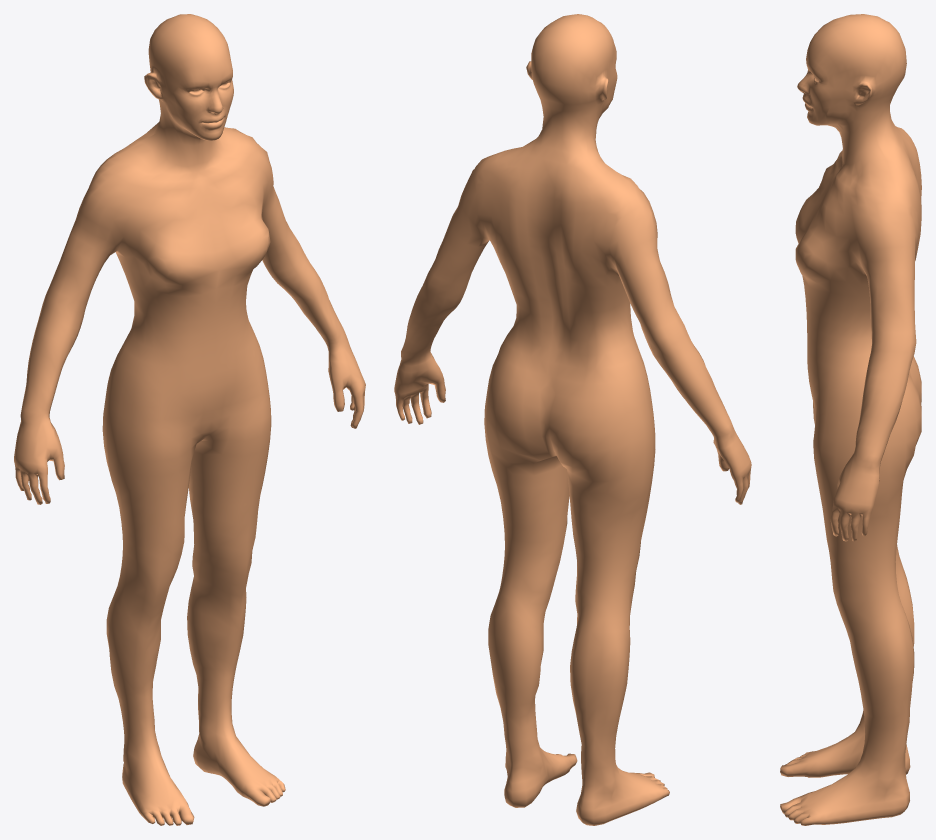
Rendered from waistmin.obj.
3 renders of one model, left to right at view 1: azimuth 30°, elevation 25°; view 2: azimuth 150°, elevation 25°; view 3: azimuth 270°, elevation 25°, orthographic.
Visible parts, largest first — view 1: waistmin_Realistic_White_Female_Low_Poly.006; view 2: waistmin_Realistic_White_Female_Low_Poly.006; view 3: waistmin_Realistic_White_Female_Low_Poly.006.
Boxes of the visible parts, left/top/right/bottom form: waistmin_Realistic_White_Female_Low_Poly.006: left=14, top=14, right=365, bottom=825; waistmin_Realistic_White_Female_Low_Poly.006: left=394, top=14, right=751, bottom=825; waistmin_Realistic_White_Female_Low_Poly.006: left=780, top=14, right=921, bottom=825.
Size of the model in its own units: 0.7722 by 1.66 by 0.2737.
